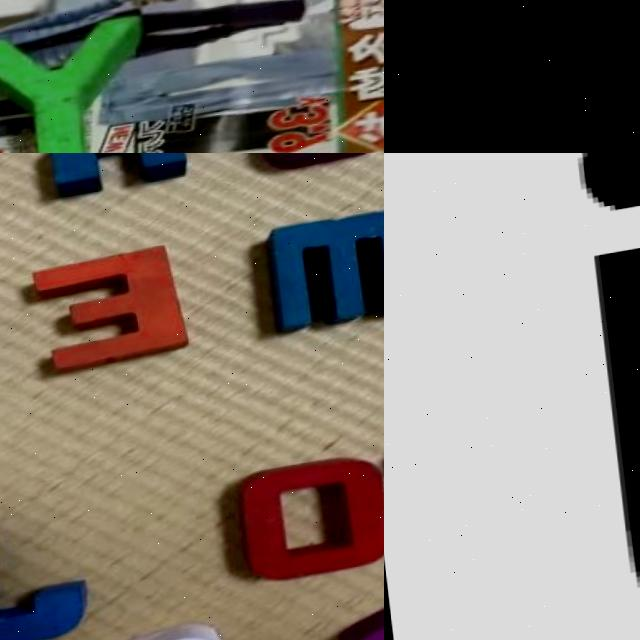E: (17, 251, 174, 378)
J: (560, 153, 640, 640), (0, 521, 75, 640)
K: (34, 153, 183, 201)
M: (257, 216, 384, 345)
O: (226, 463, 384, 592)
S: (245, 153, 384, 174)
X: (0, 19, 153, 153)
